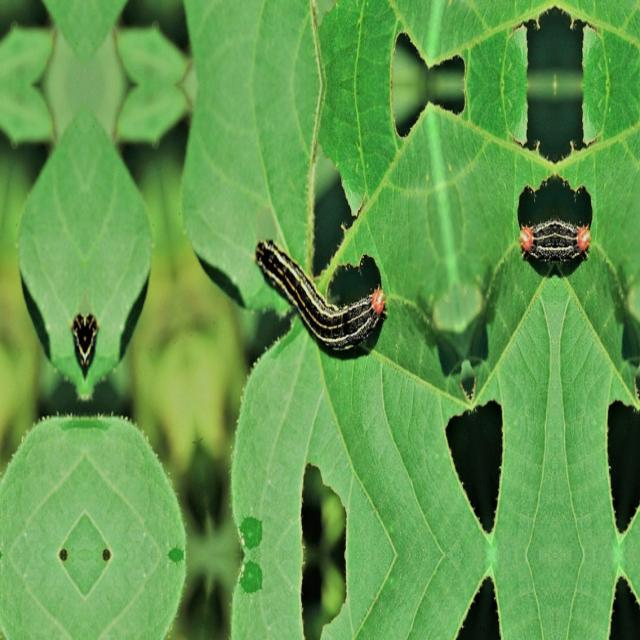armyworm: (254, 236, 387, 352), (516, 172, 592, 265)
